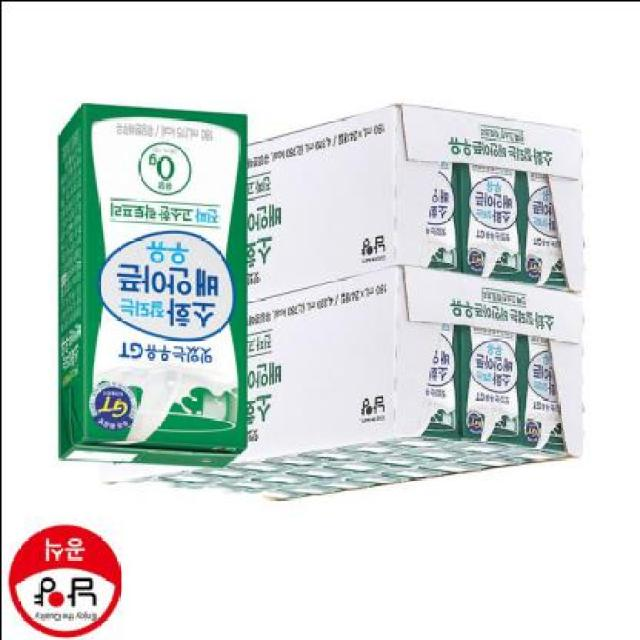tetra: (20, 91, 266, 494)
